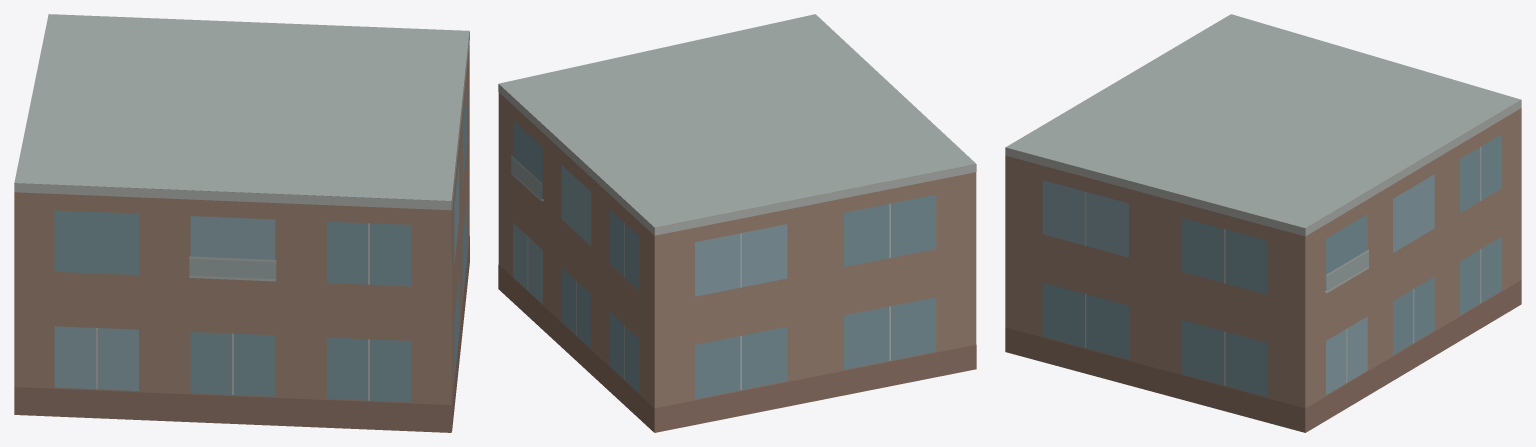
The model's file is survey-upis-32659444.glb.
3 renders of one model, left to right at view 1: azimuth 30°, elevation 25°; view 2: azimuth 150°, elevation 25°; view 3: azimuth 270°, elevation 25°, orthographic. The views are drawn at different scales.
Parts seen in each view (by area): view 1: survey-upis-32659444.tmp; view 2: survey-upis-32659444.tmp; view 3: survey-upis-32659444.tmp.
Part boxes in pixels (<box>): survey-upis-32659444.tmp: <box>14,14,469,432</box>; survey-upis-32659444.tmp: <box>498,14,976,432</box>; survey-upis-32659444.tmp: <box>1005,14,1521,432</box>.
Size of the model in its own units: 13.71 by 6.1 by 13.96.
